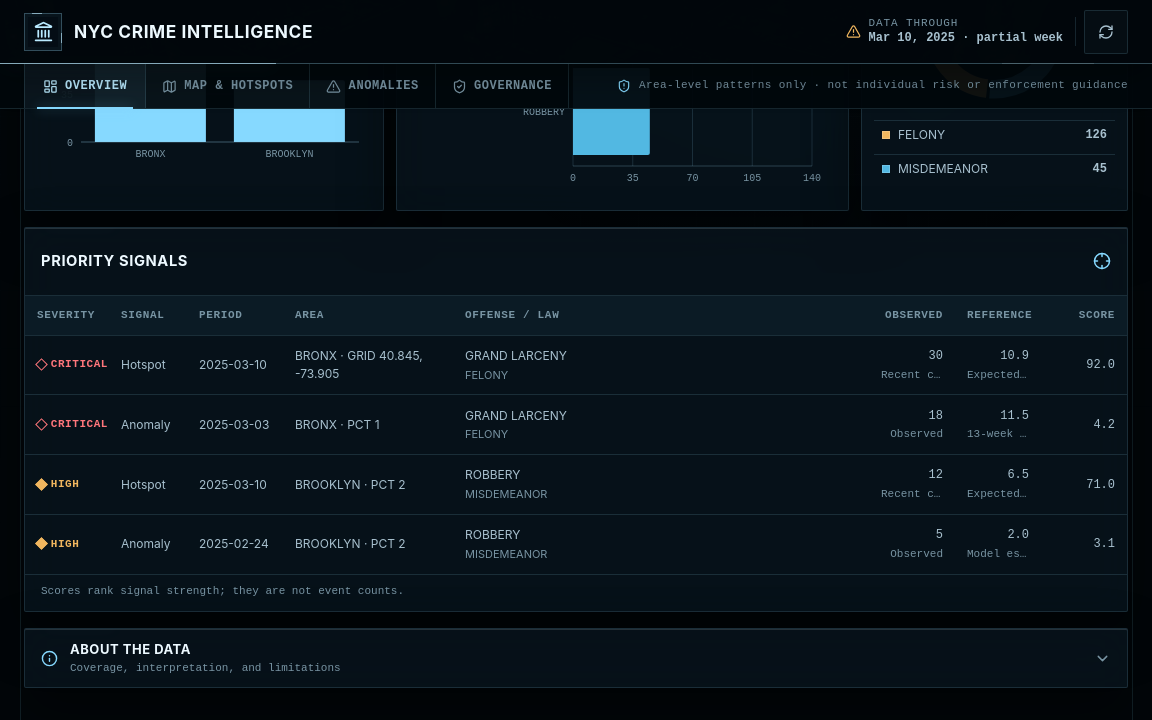
Overview data context › keeps product context concise and excludes development metadata
(page scrolled)
Expected: the text "Area-level patterns only" is shown once, [617,79,1128,93]
Expected: the button named "Reload dashboard data" is shown, [1084,10,1128,54]
Click the text "About the data": (130, 649) [70,641,191,657]
(page scrolled)
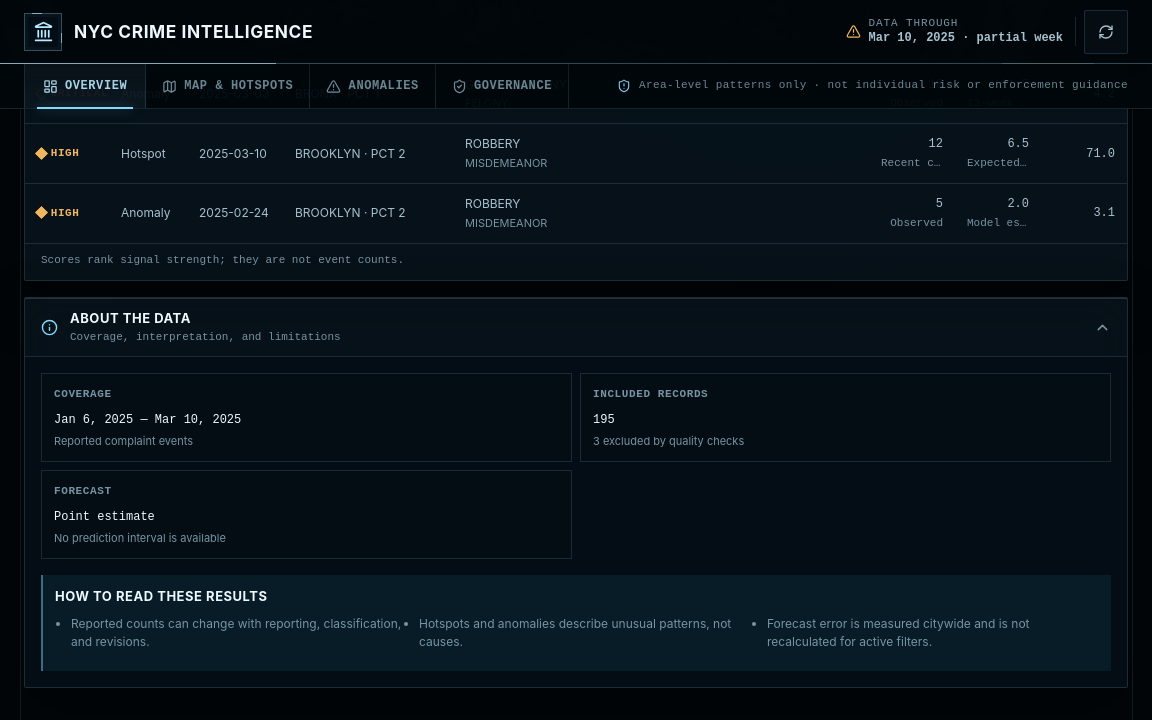
Result: the text "Coverage" is shown at [54,388,112,400]
Result: the text "Included records" is shown at [593,388,708,400]
Result: the text "Point estimate" is shown at [54,510,155,524]
